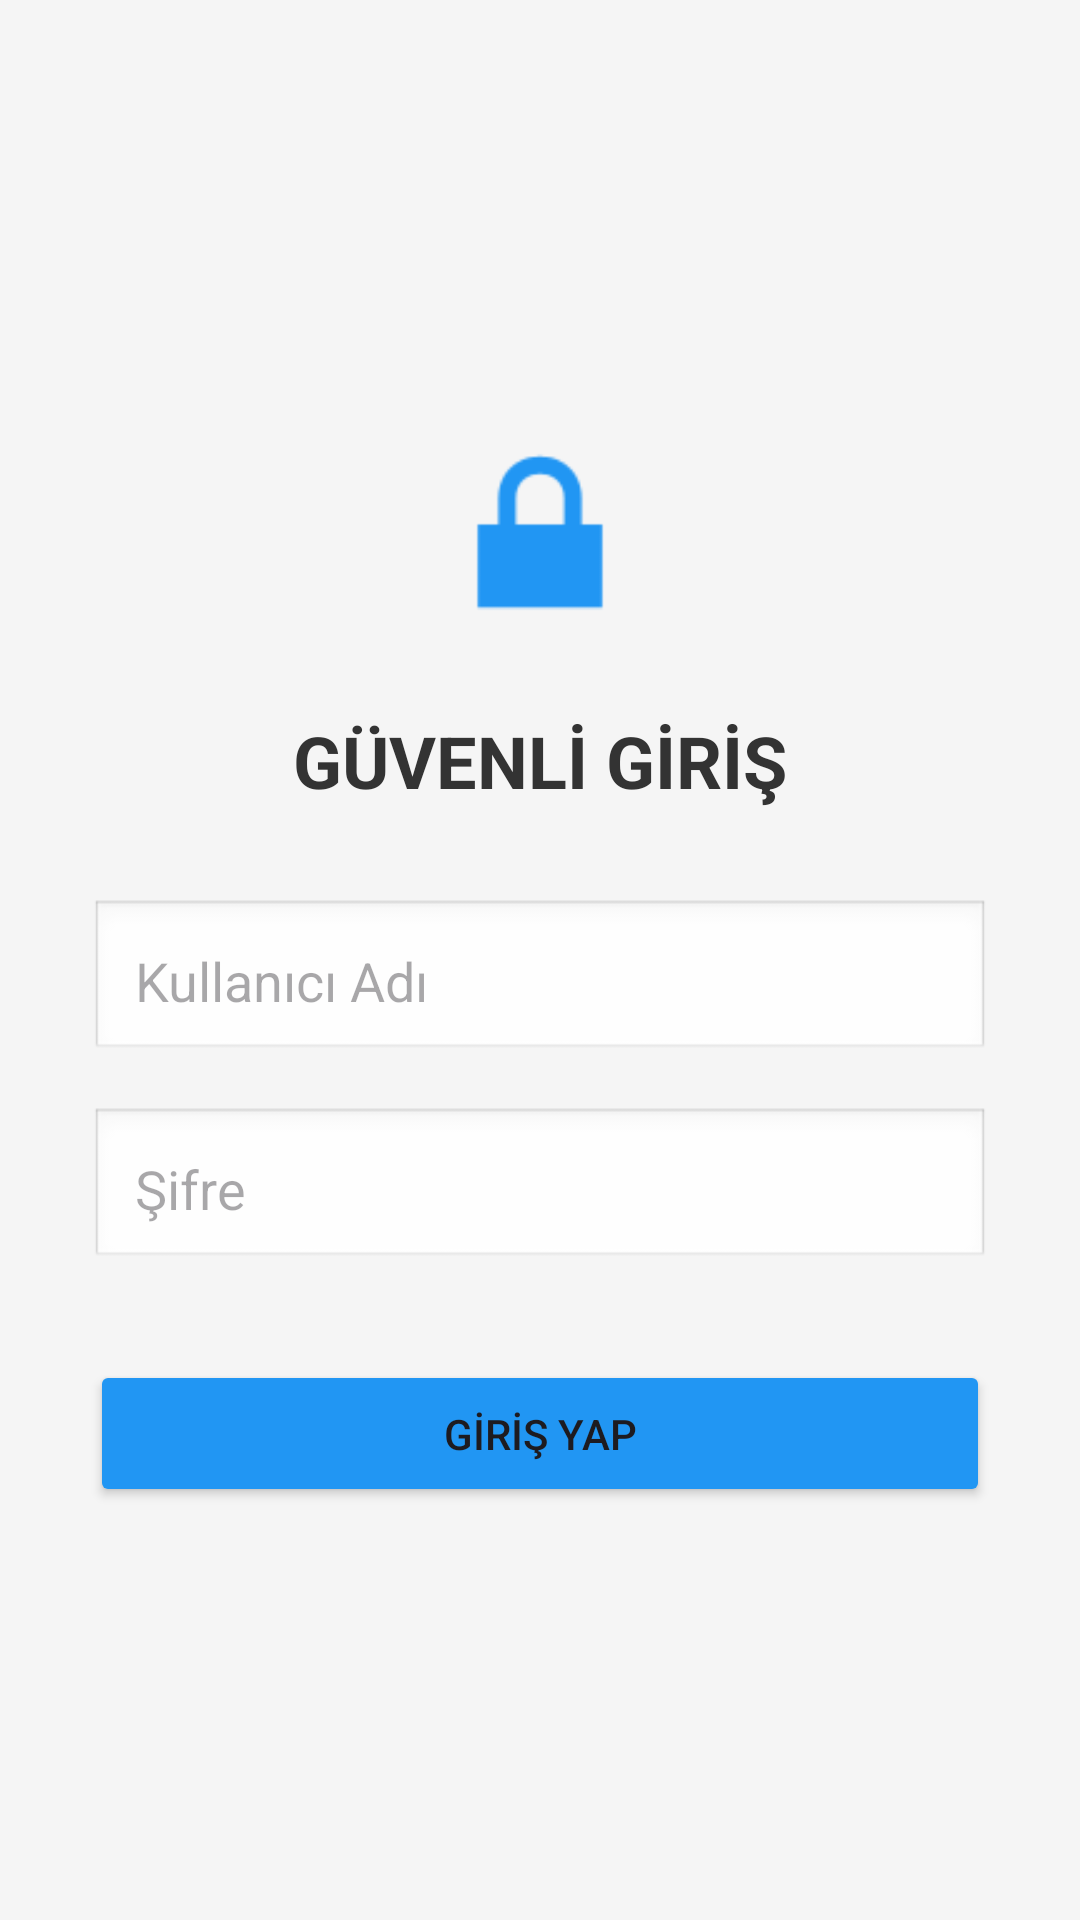

Icons on this 1080px×1920px Android screen, each with its box as (x1, y1, x2, y2):
lock: (477, 455, 603, 609)
